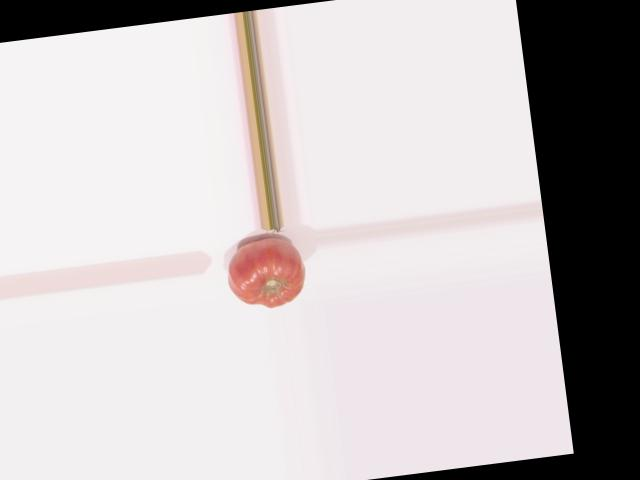tomato: (224, 234, 308, 312)
